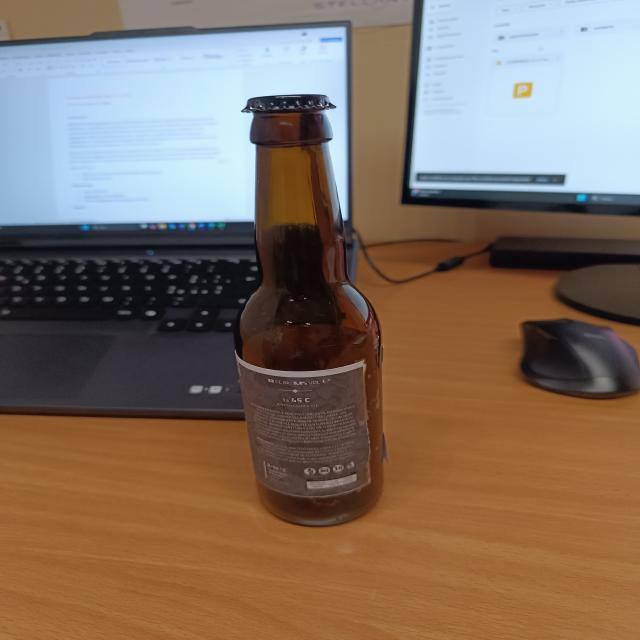Bottle: (235, 92, 389, 528)
Cap: (241, 91, 340, 118)
Label: (238, 362, 372, 499)
